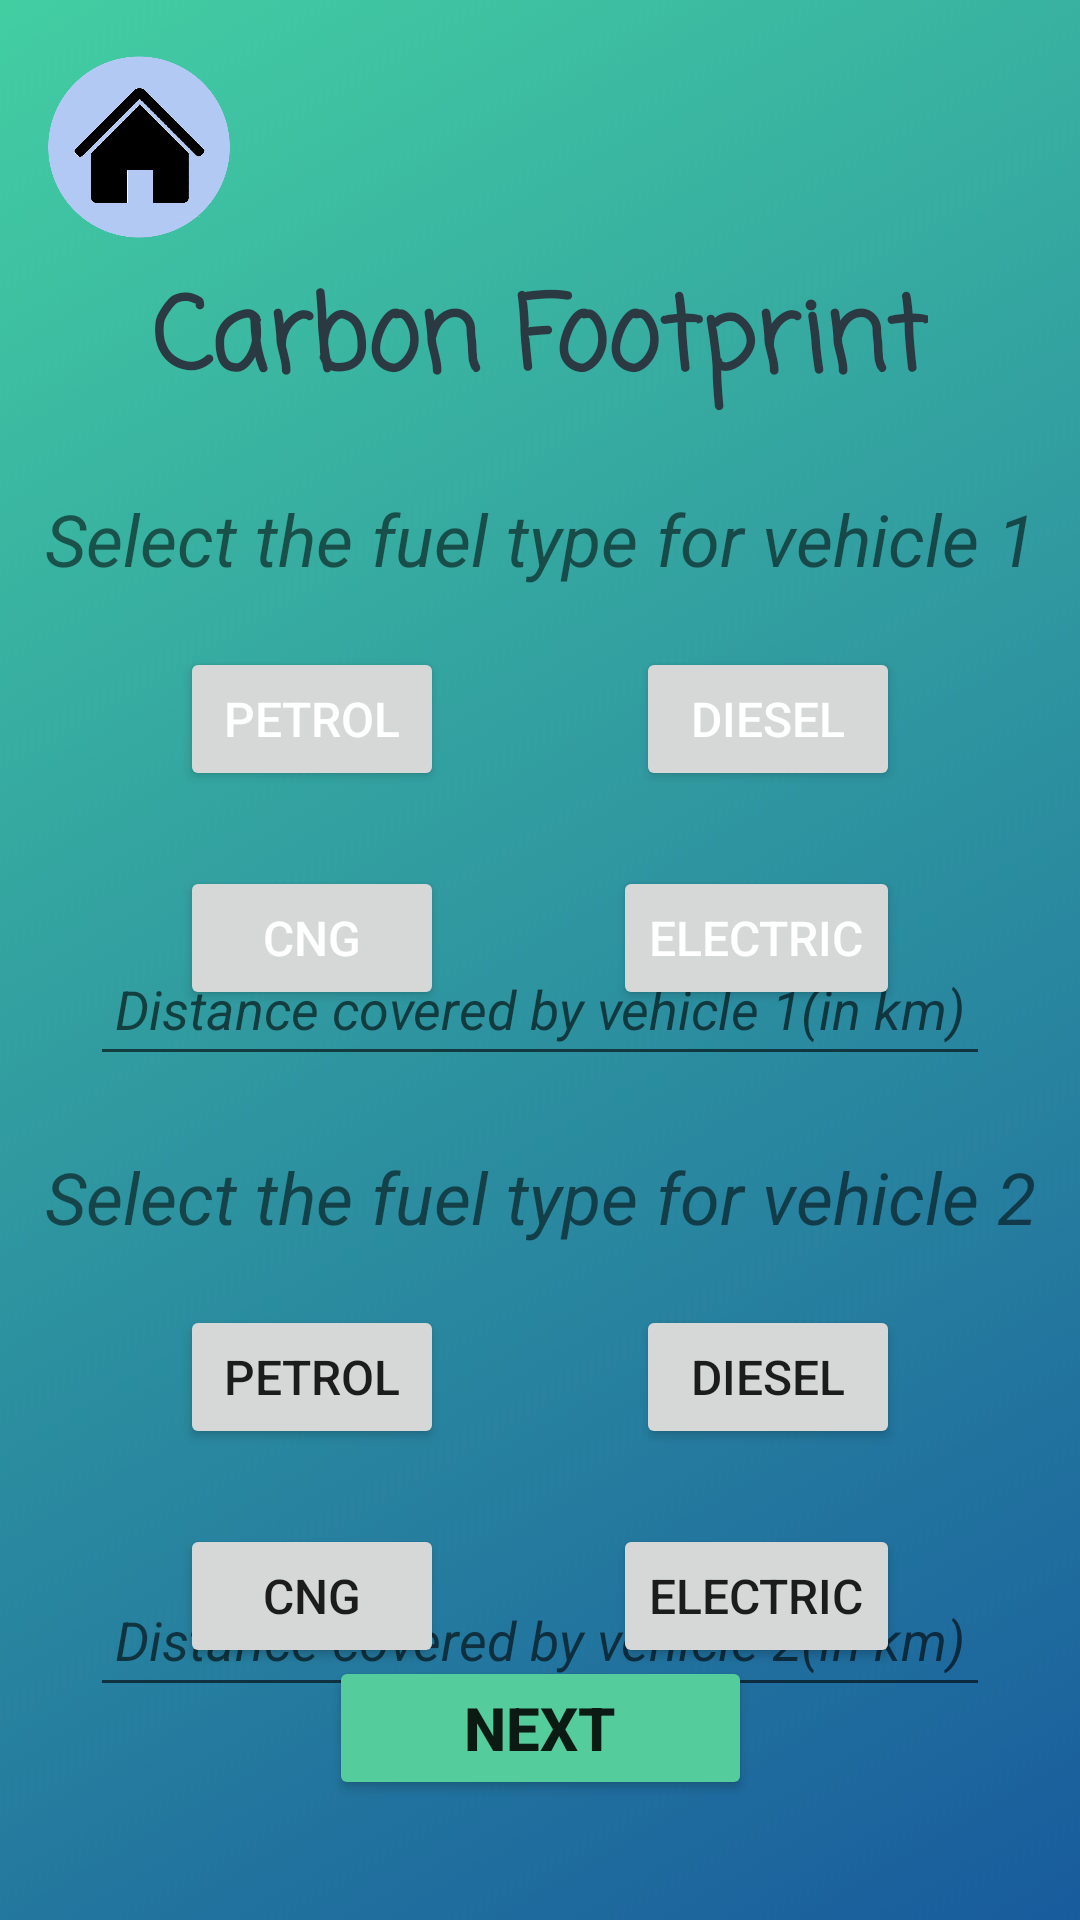

Screen size 1080*1920. Icon name, then its center in pixels as [x,y]:
home: [139,147]
